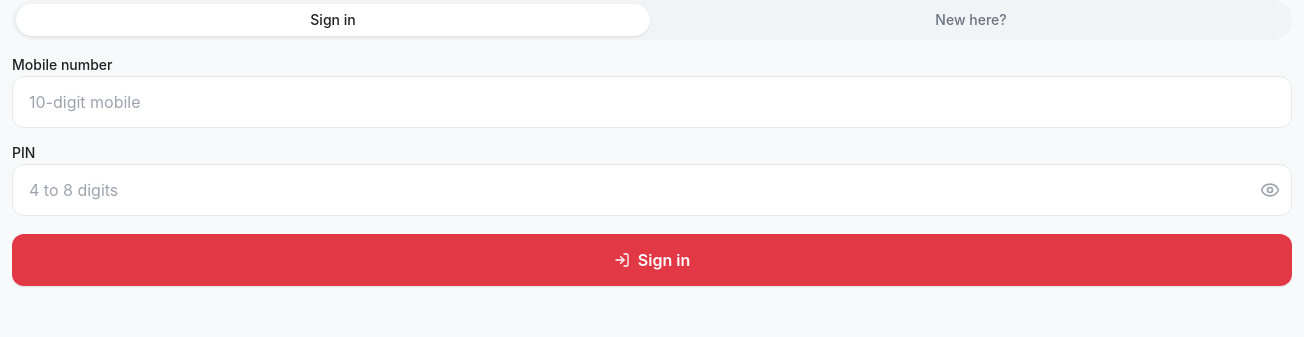
Test: CustomerMobileAuth › refuses a mobile number that is not ten digits
This screenshot has width=1304, height=337.
In the field labelled "Mobile number": (652,102) [12,76,1292,128], type "98765"
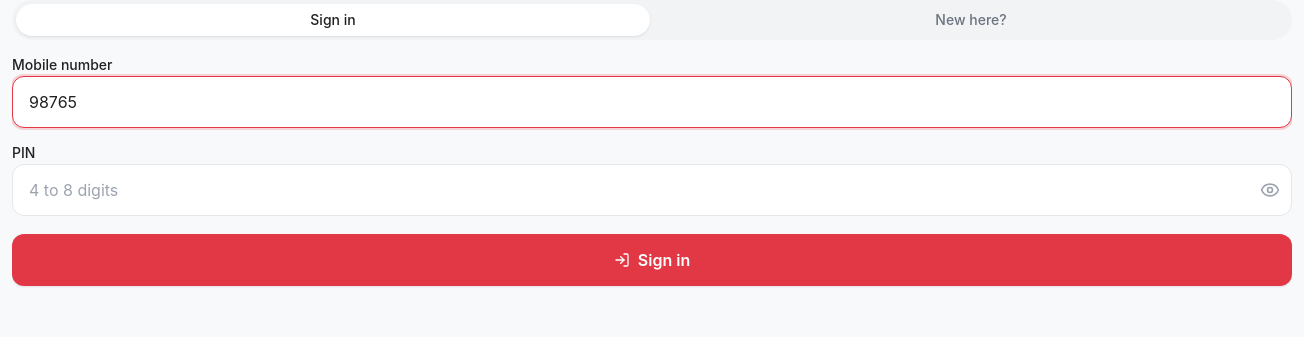
In the password field labelled "PIN": (652,190) [12,164,1292,216], type "4321"
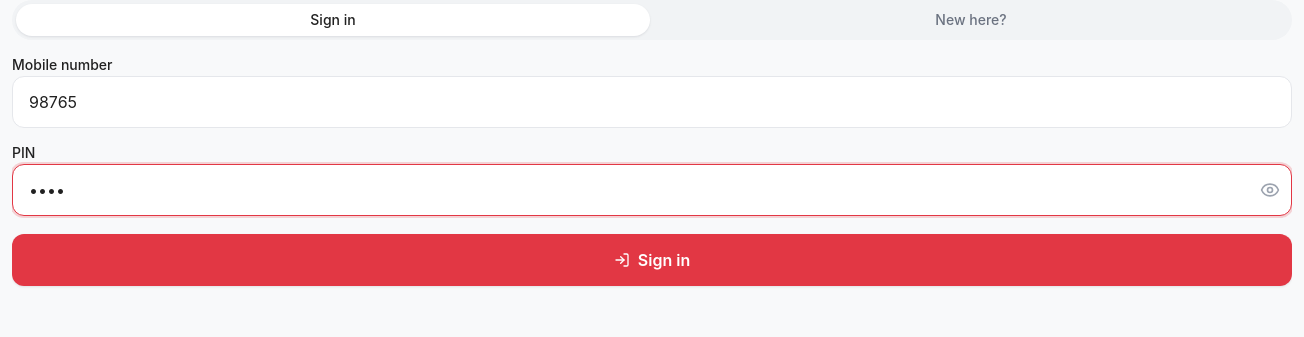
Click the button "Sign in": (652,260) [12,234,1292,286]
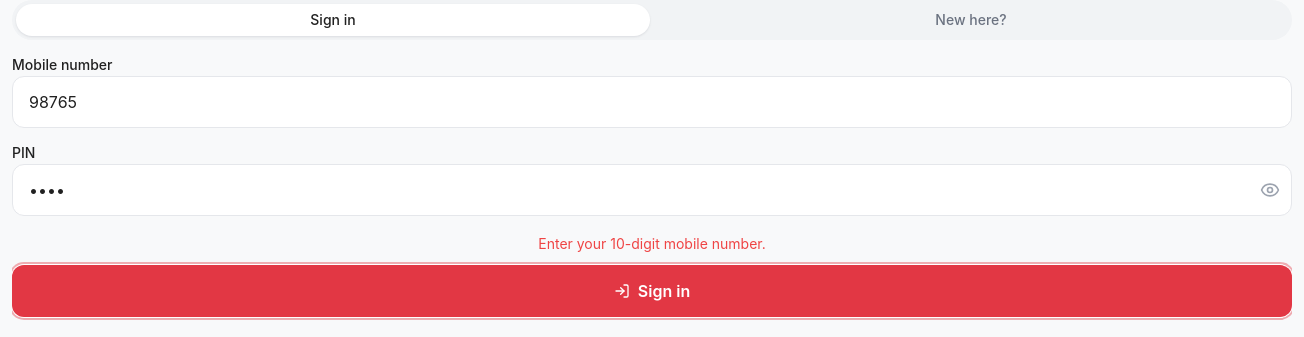
Expected: the message "Enter your 10-digit mobile number." is shown, [538,235,766,252]
